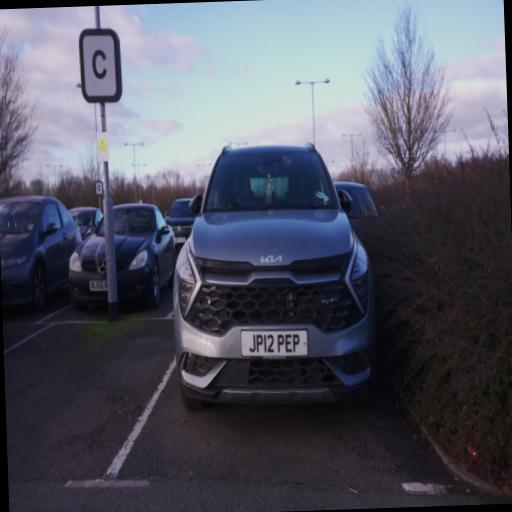numberplates: (241, 330, 307, 357), (89, 281, 108, 291), (175, 236, 186, 243)
